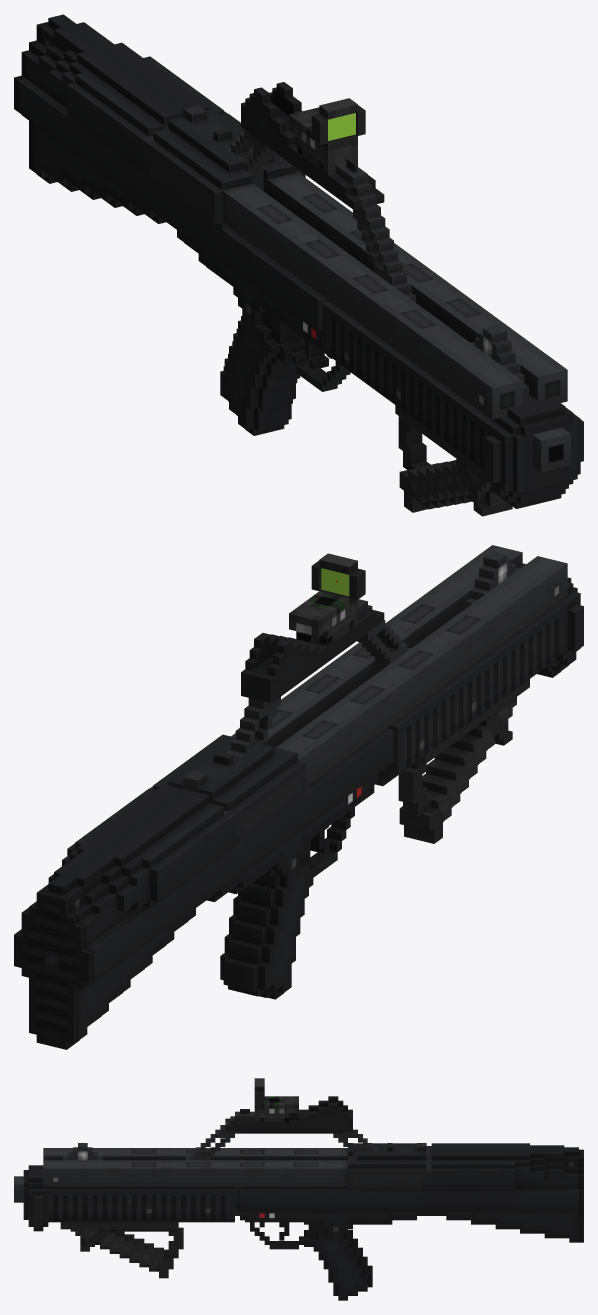
The model's file is RD_NEOSTEAD2000.glb.
3 renders of one model, top to bottom at view 1: azimuth 30°, elevation 25°; view 2: azimuth 150°, elevation 25°; view 3: azimuth 270°, elevation 25°, orthographic. The views are drawn at different scales.
Parts seen in each view (by area): view 1: NEOSTEAD2000, NEOSTEAD2000_CLIP, NEOSTEAD2000_FOREND, GRIP2, SCOPE_AIMPOINT; view 2: NEOSTEAD2000, NEOSTEAD2000_CLIP, NEOSTEAD2000_FOREND, GRIP2, SCOPE_AIMPOINT; view 3: NEOSTEAD2000, NEOSTEAD2000_CLIP, NEOSTEAD2000_FOREND, GRIP2, SCOPE_AIMPOINT.
Part boxes in pixels (left/top/right/bottom): NEOSTEAD2000: left=14, top=14, right=571, bottom=472; NEOSTEAD2000_CLIP: left=145, top=105, right=567, bottom=419; NEOSTEAD2000_FOREND: left=322, top=301, right=583, bottom=508; GRIP2: left=395, top=405, right=512, bottom=516; SCOPE_AIMPOINT: left=289, top=98, right=365, bottom=174; NEOSTEAD2000: left=14, top=551, right=571, bottom=1049; NEOSTEAD2000_CLIP: left=149, top=545, right=567, bottom=844; NEOSTEAD2000_FOREND: left=375, top=563, right=583, bottom=786; GRIP2: left=398, top=679, right=529, bottom=843; SCOPE_AIMPOINT: left=289, top=553, right=365, bottom=645; NEOSTEAD2000: left=14, top=1096, right=583, bottom=1300; NEOSTEAD2000_CLIP: left=43, top=1143, right=426, bottom=1190; NEOSTEAD2000_FOREND: left=23, top=1165, right=234, bottom=1231; GRIP2: left=60, top=1222, right=183, bottom=1278; SCOPE_AIMPOINT: left=254, top=1078, right=298, bottom=1122.
Size of the model in its own units: 0.1181 by 0.4723 by 1.14.
Materials: 4 (4 with a texture image).
